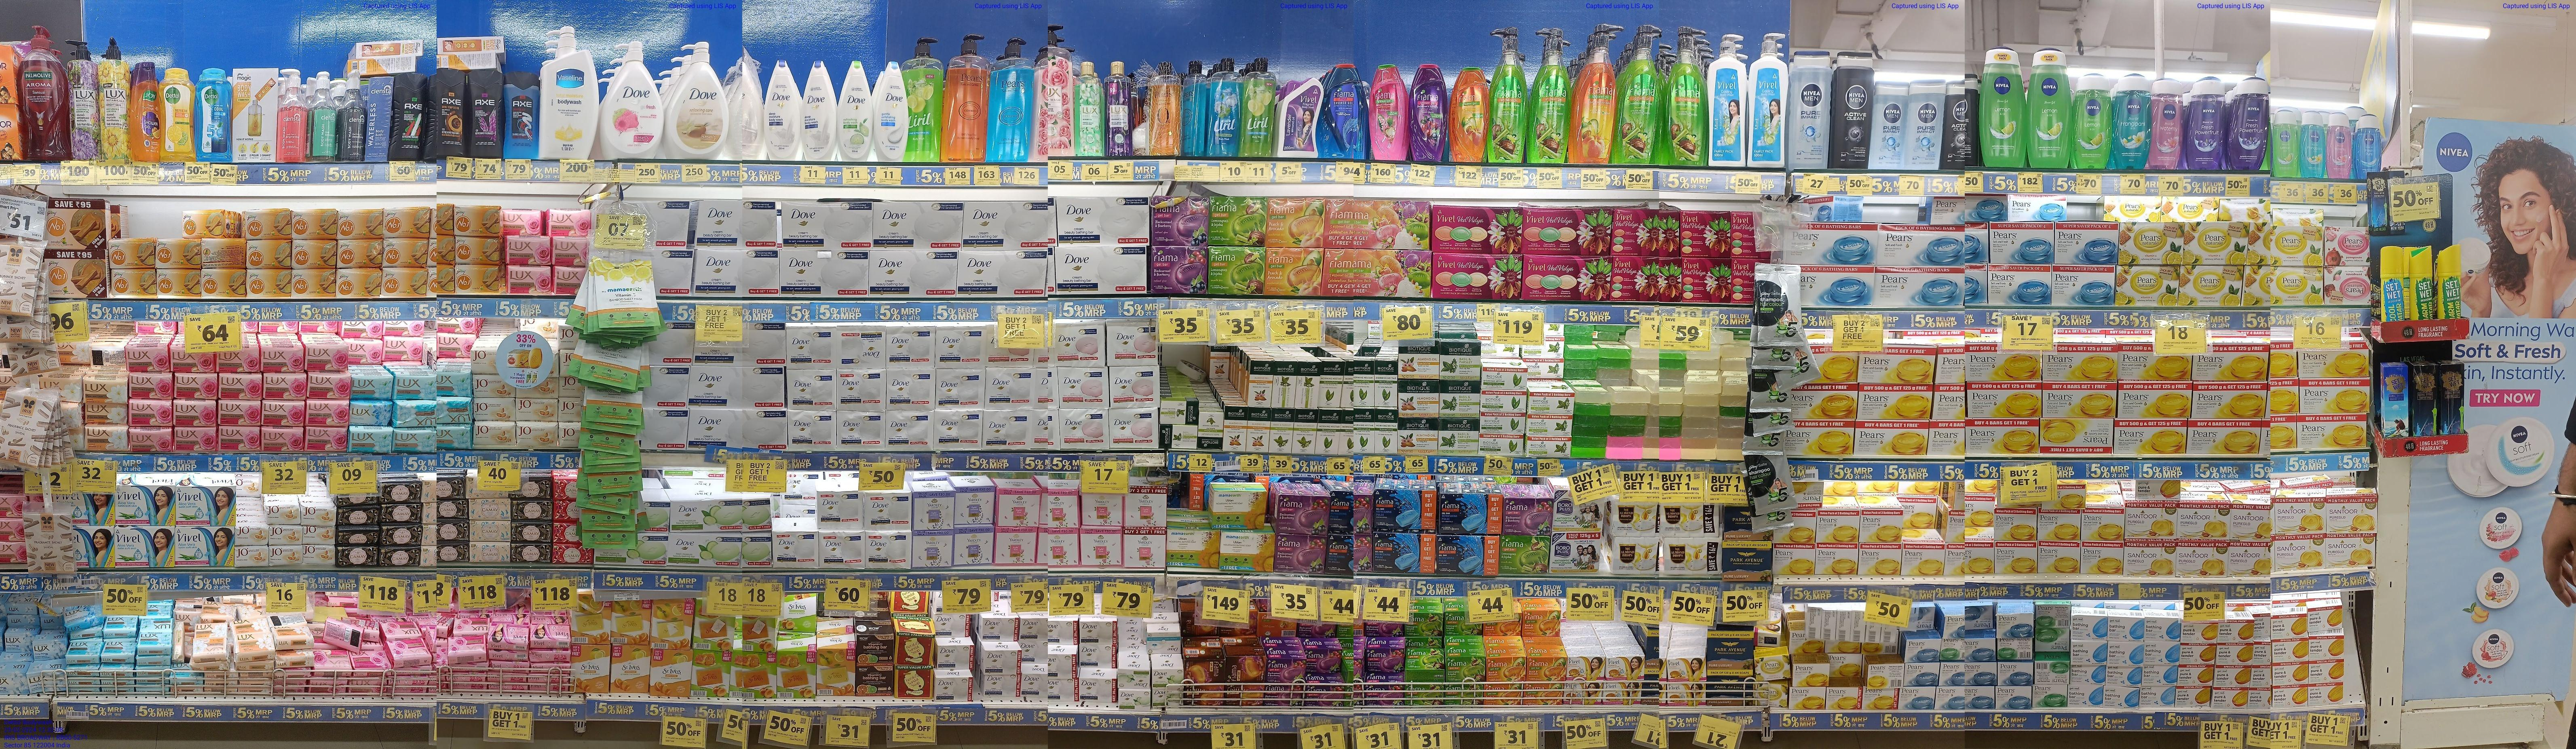Dettol_Bodywash_Cool: (199, 69, 235, 163)
Dettol_Bodywash_Refresh: (159, 69, 194, 161)
Dove_Deep_Moisture_Body_Wash_250ML: (766, 59, 800, 161), (803, 61, 836, 161)
Dove_Gentle_Exfoliating_Body_Wash_250ML: (877, 62, 908, 161)
Dove_Refreshing_Body_Wash_250ML: (838, 61, 874, 161)
Fiama_Shower_Gel_Patchouli_and_Macadamia_250ML: (1368, 64, 1408, 161)
Fiama_Shower_Gel_Peach_and_Avocado_250ML: (1449, 67, 1490, 163)
Joy_Shower_Gel_Mandarin_and_Lemongrass_250ML: (131, 61, 158, 161)
Lux_Black_Orchid_Scent_and_Juniper_Oil_Body_Wash_245ML: (1106, 61, 1132, 158)
Lux_Body_Wash_Skin_Detox_Freesia_Scent_and_Alove_Vera_245ML: (1076, 62, 1104, 156)
Nivea_Shower_Gel_Frangipani_and_Oil_250ML: (2118, 74, 2150, 166)
Nivea_Shower_Gel_Fresh_Powerfruit_250ML: (2233, 77, 2269, 172), (2188, 77, 2224, 171)
Nivea_Shower_Gel_Lemon_and_Oil_250ML: (1981, 48, 2026, 168), (2027, 49, 2072, 168), (2075, 74, 2108, 171)
Nivea_Shower_Gel_Waterlily_and_Oil_250ML: (2152, 80, 2183, 169)
